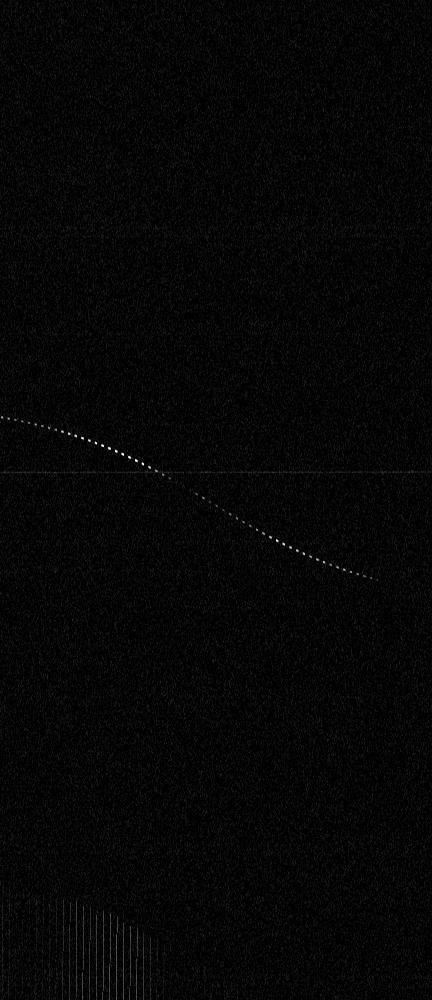signal: (0, 0, 431, 999)
